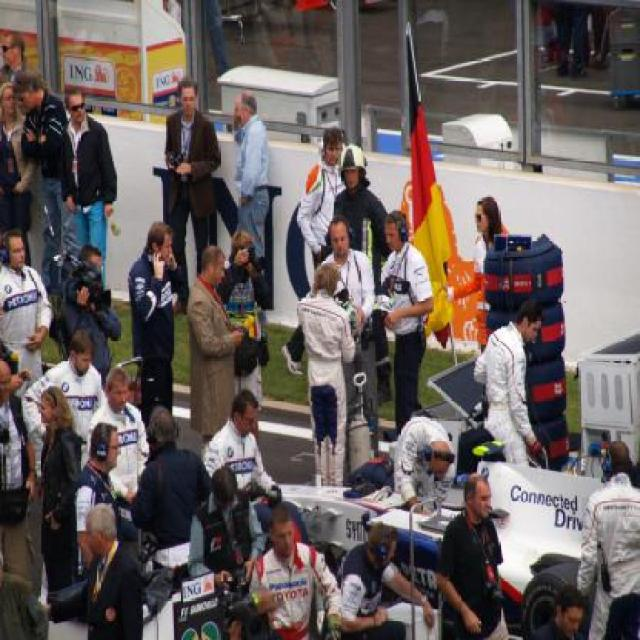Person: (7, 35, 639, 634)
